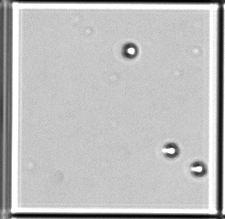Living Cell: (163, 141, 180, 158), (123, 43, 139, 60), (190, 160, 206, 176)
